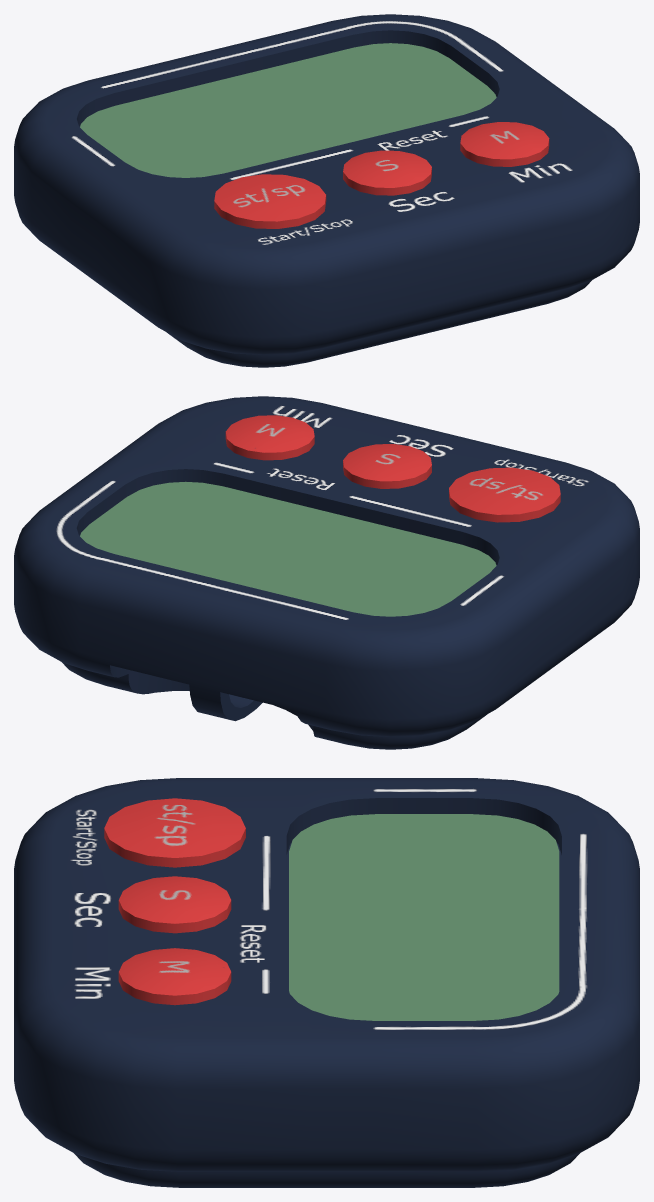
File: uploads_files_5619461_countdownTimer.fbx
3 views of the same model, one above another, from view 1: azimuth 30°, elevation 25°; view 2: azimuth 150°, elevation 25°; view 3: azimuth 270°, elevation 25° (orthographic). The views are drawn at different scales.
Visible parts, largest first — view 1: countdownTimer; view 2: countdownTimer; view 3: countdownTimer.
Boxes of the visible parts, x1=… form: countdownTimer: x1=14, y1=14, x2=639, y2=367; countdownTimer: x1=14, y1=396, x2=639, y2=749; countdownTimer: x1=14, y1=778, x2=639, y2=1187.
Size of the model in its own units: 7.1 by 2.12 by 6.5.
Materials: 1 (1 with a texture image).
